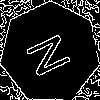N: (25, 27, 81, 80)
